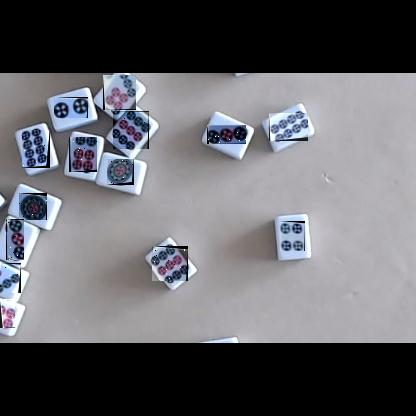1p: (19, 193, 47, 220), (107, 159, 134, 185)
2p: (54, 97, 88, 118)
3p: (207, 125, 246, 144), (6, 219, 24, 260)
4p: (280, 221, 305, 251)
6p: (69, 137, 97, 172), (0, 299, 15, 328)
7p: (103, 75, 136, 110), (0, 263, 21, 293)
8p: (269, 113, 308, 141), (22, 130, 50, 168)
9p: (113, 111, 149, 149), (152, 246, 188, 281)
